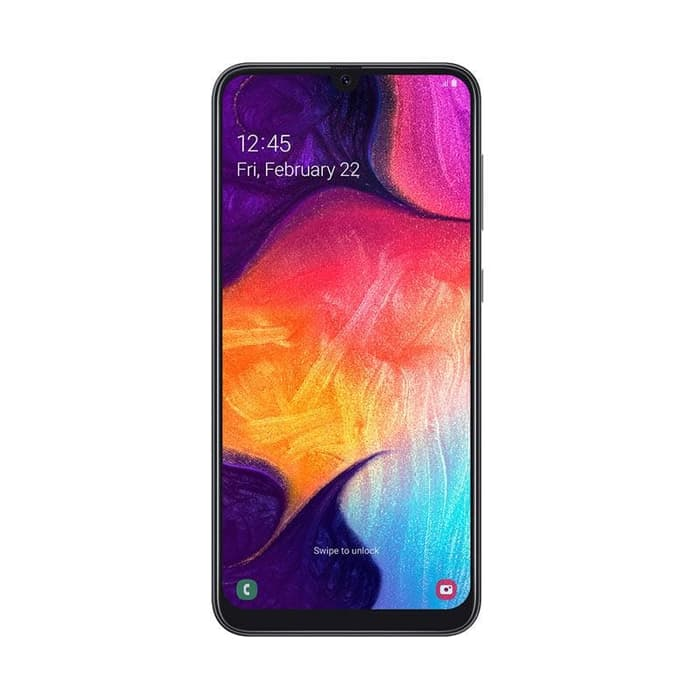Handphone: (205, 56, 490, 642)
